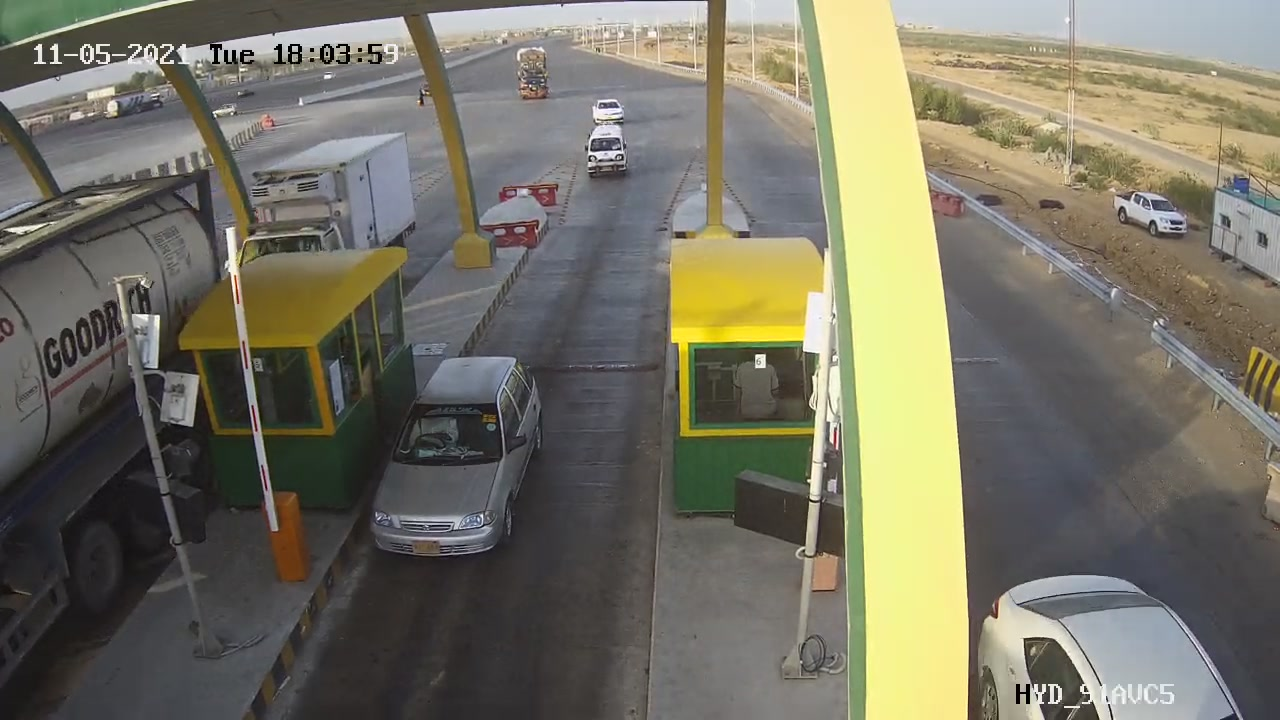F1: (342, 340, 561, 572)
